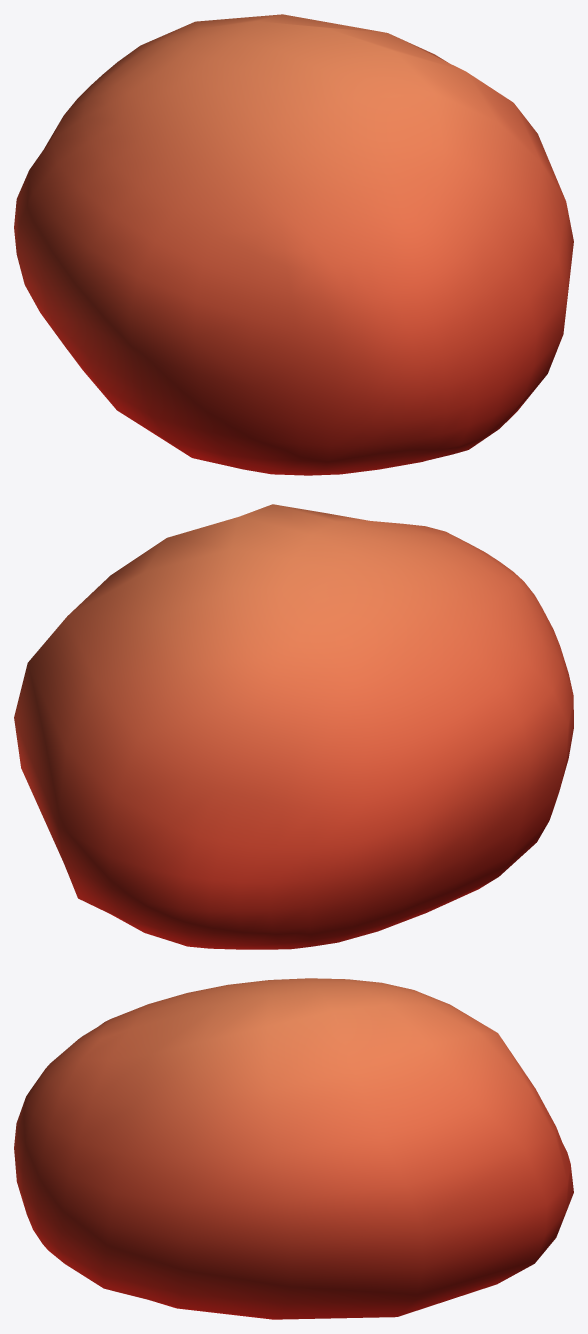
Rendered from Lamb.fbx.
The picture shows the model from 3 angles, top to bottom: view 1: azimuth 30°, elevation 25°; view 2: azimuth 150°, elevation 25°; view 3: azimuth 270°, elevation 25°; orthographic projection. The views are drawn at different scales.
Parts seen in each view (by area): view 1: Lamb; view 2: Lamb; view 3: Lamb.
Part boxes in pixels (bbox=[...]): Lamb: bbox=[14, 14, 573, 475]; Lamb: bbox=[14, 504, 573, 949]; Lamb: bbox=[14, 978, 573, 1319].
Size of the model in its own units: 15.07 by 10.34 by 18.38.
